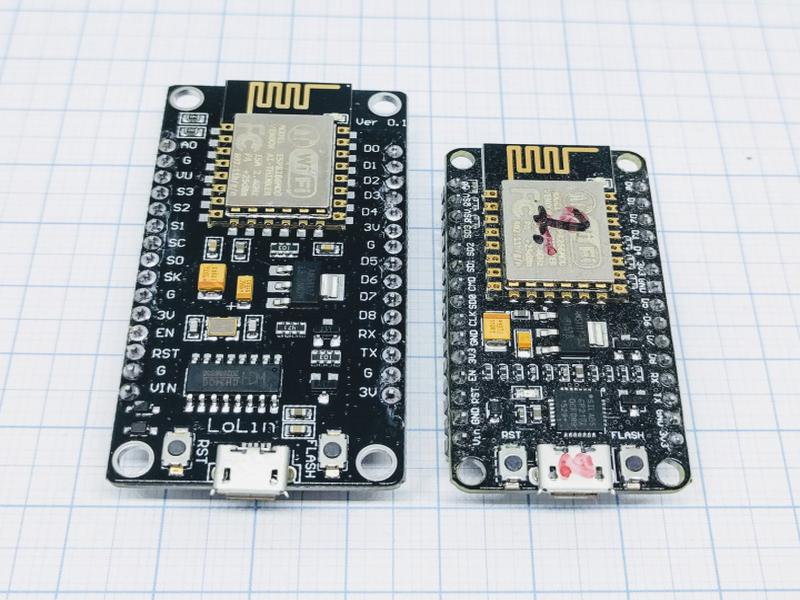NodeMCU: (107, 76, 410, 501), (441, 141, 695, 502)
